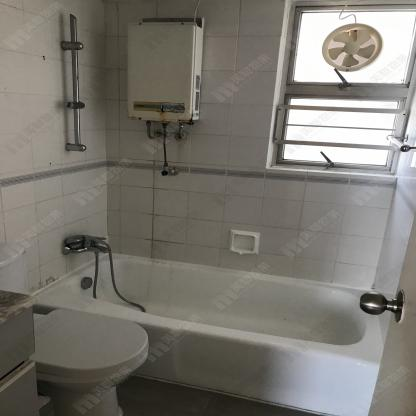Bathtub: (27, 252, 381, 416)
Exhaust Fan: (315, 16, 385, 73)
Toilet: (32, 309, 151, 415)
Water Heater: (127, 23, 204, 122)
